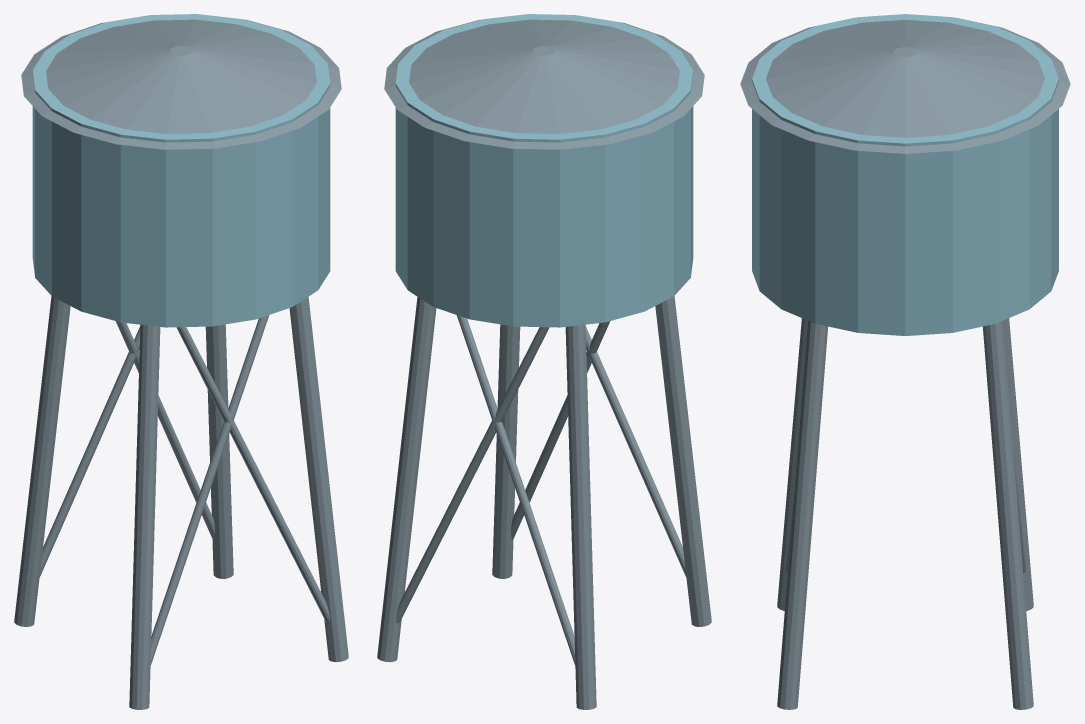
File: water_tower.glb
3 views of the same model, side by side, from view 1: azimuth 30°, elevation 25°; view 2: azimuth 150°, elevation 25°; view 3: azimuth 270°, elevation 25° (orthographic). The views are drawn at different scales.
Visible parts, largest first — view 1: water_tower_008, water_tower_009, water_tower_000, water_tower_002, water_tower_001, water_tower_003, water_tower_004, water_tower_005, water_tower_006, water_tower_007; view 2: water_tower_008, water_tower_009, water_tower_001, water_tower_003, water_tower_000, water_tower_002, water_tower_006, water_tower_007, water_tower_004, water_tower_005; view 3: water_tower_008, water_tower_009, water_tower_002, water_tower_003, water_tower_000, water_tower_001.
Boxes of the visible parts, left/top/right/bottom form: water_tower_008: left=32, top=14, right=330, bottom=327; water_tower_009: left=21, top=19, right=341, bottom=149; water_tower_000: left=129, top=324, right=160, bottom=709; water_tower_002: left=289, top=297, right=348, bottom=662; water_tower_001: left=14, top=296, right=70, bottom=626; water_tower_003: left=205, top=324, right=233, bottom=578; water_tower_004: left=150, top=315, right=269, bottom=665; water_tower_005: left=176, top=327, right=329, bottom=623; water_tower_006: left=39, top=326, right=140, bottom=577; water_tower_007: left=115, top=321, right=214, bottom=539; water_tower_008: left=395, top=14, right=693, bottom=327; water_tower_009: left=384, top=19, right=704, bottom=149; water_tower_001: left=565, top=324, right=596, bottom=709; water_tower_003: left=377, top=297, right=436, bottom=662; water_tower_000: left=655, top=296, right=711, bottom=626; water_tower_002: left=492, top=324, right=520, bottom=578; water_tower_006: left=456, top=315, right=575, bottom=665; water_tower_007: left=396, top=327, right=549, bottom=623; water_tower_004: left=585, top=326, right=686, bottom=577; water_tower_005: left=511, top=321, right=610, bottom=539; water_tower_008: left=752, top=14, right=1058, bottom=335; water_tower_009: left=740, top=17, right=1070, bottom=153; water_tower_002: left=777, top=321, right=827, bottom=709; water_tower_003: left=983, top=321, right=1033, bottom=709; water_tower_000: left=777, top=318, right=807, bottom=610; water_tower_001: left=1003, top=318, right=1033, bottom=610.
Bounding box in the file's own units: 2.8 × 5.66 × 2.8.
